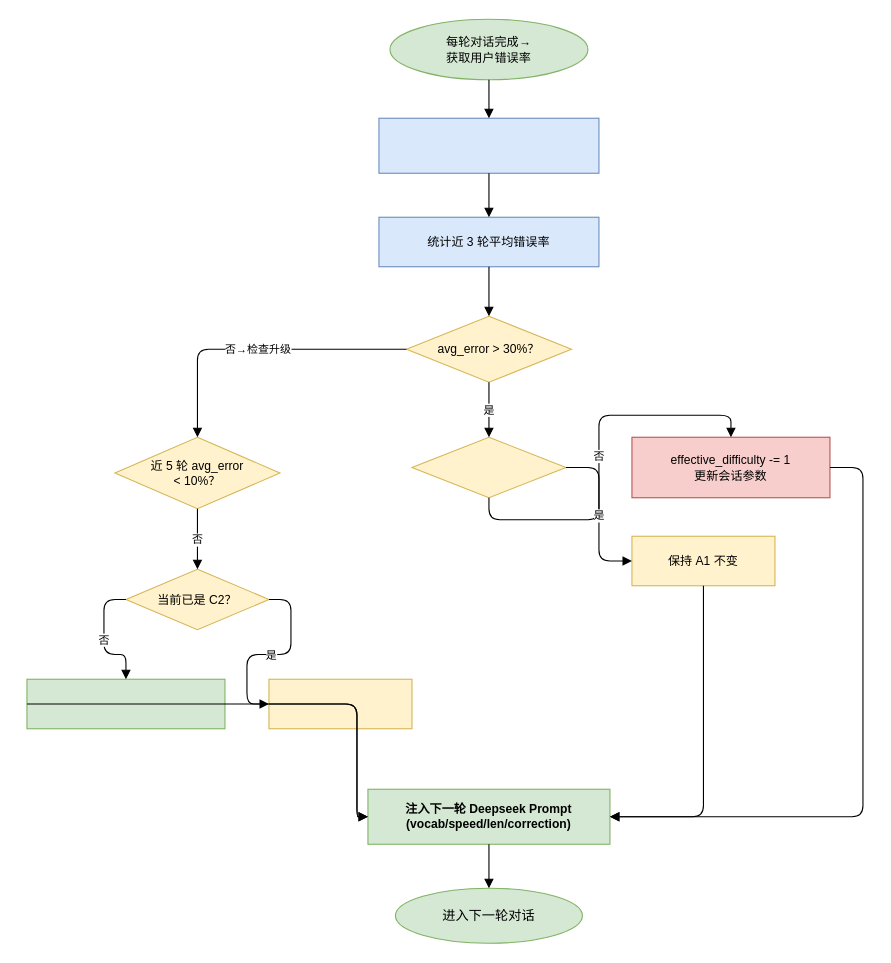
The diagram is 891 pixels wide and 963 high, and some of its shapes have lost their labels. The centre of each missing label's shape, as x and y in pixels:
effective_difficulty += 1: [125,703]
保持 C2 不变: [340,703]
当前已是 A1？: [488,467]
读取当前 effective_difficulty 查表获取四维参数: [488,145]
